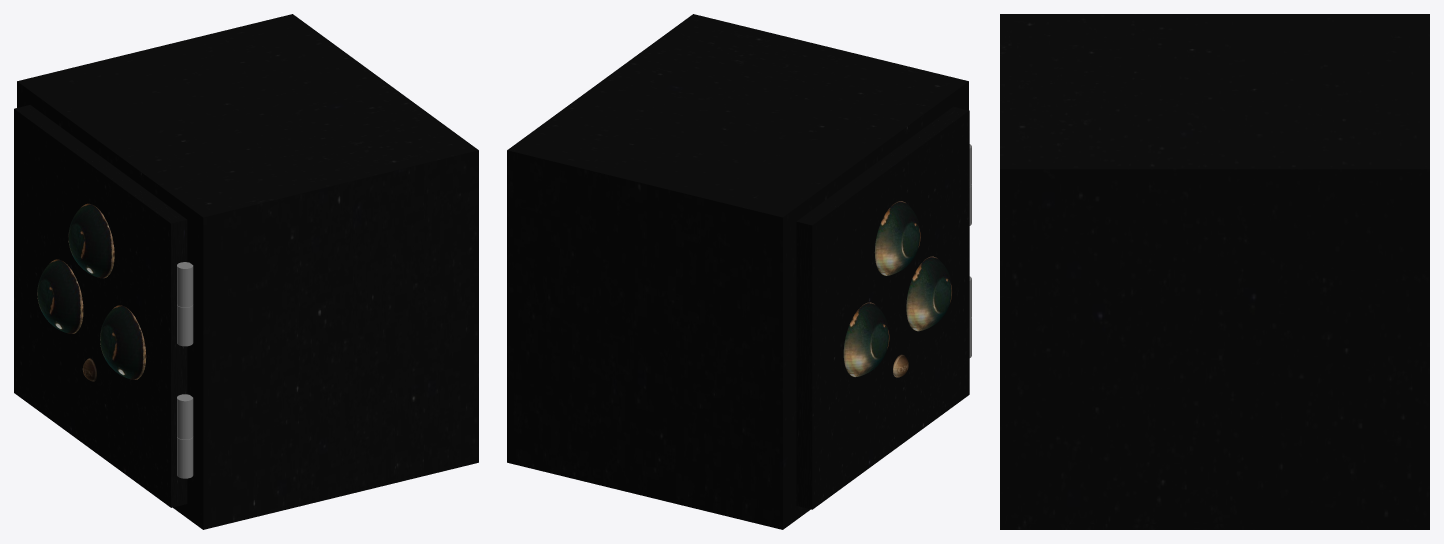
The model's file is safe.fbx.
The picture shows the model from 3 angles, left to right: view 1: azimuth 30°, elevation 25°; view 2: azimuth 150°, elevation 25°; view 3: azimuth 270°, elevation 25°; orthographic projection. The views are drawn at different scales.
Parts seen in each view (by area): view 1: Cube.003, Cube.002, Сфера.002, Сфера.001, Сфера.004, Цилиндр, Цилиндр.002, Цилиндр.003, Цилиндр.001; view 2: Cube.003, Cube.002, Сфера.001, Сфера.004, Сфера.002; view 3: Cube.001, Cube.003.
Boxes of the visible parts, left/top/right/bottom form: Cube.003: left=17, top=14, right=478, bottom=529; Cube.002: left=14, top=105, right=187, bottom=507; Сфера.002: left=68, top=203, right=114, bottom=278; Сфера.001: left=37, top=259, right=83, bottom=333; Сфера.004: left=100, top=305, right=146, bottom=379; Цилиндр: left=177, top=262, right=193, bottom=307; Цилиндр.002: left=177, top=394, right=193, bottom=439; Цилиндр.003: left=177, top=437, right=193, bottom=478; Цилиндр.001: left=177, top=304, right=193, bottom=346; Cube.003: left=507, top=14, right=968, bottom=529; Cube.002: left=796, top=106, right=969, bottom=509; Сфера.001: left=843, top=302, right=889, bottom=377; Сфера.004: left=906, top=256, right=952, bottom=331; Сфера.002: left=874, top=201, right=920, bottom=275; Cube.001: left=1006, top=173, right=1421, bottom=523; Cube.003: left=1000, top=14, right=1429, bottom=529.
Bounding box in the file's own units: 202 × 192 × 208.
